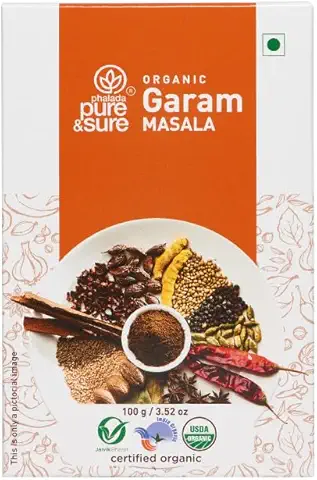Garamasala: (2, 3, 316, 475)
